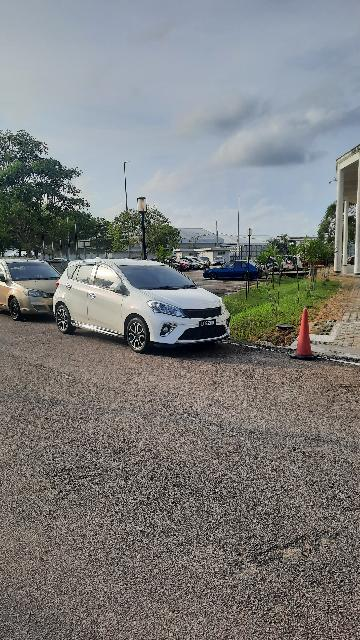License_Plate: (200, 320, 223, 331)
car: (53, 256, 236, 352), (2, 254, 71, 324)
